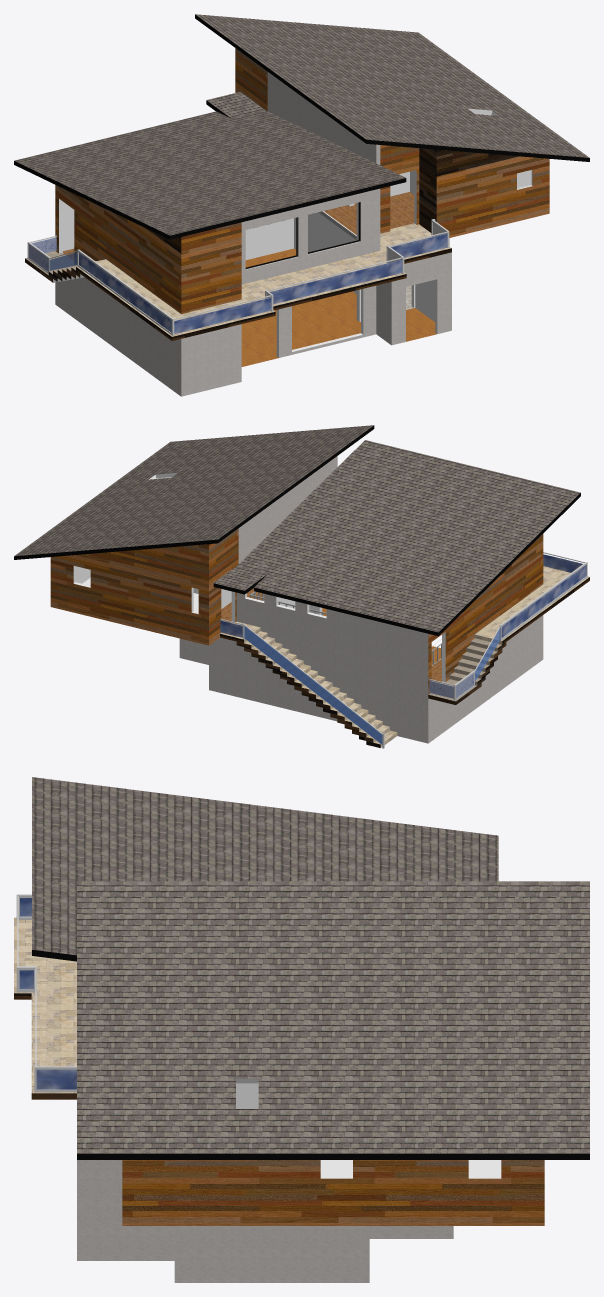
File: skihuette.obj
3 views of the same model, one above another, from view 1: azimuth 30°, elevation 25°; view 2: azimuth 150°, elevation 25°; view 3: azimuth 270°, elevation 25° (orthographic). The views are drawn at different scales.
Parts seen in each view (by area): view 1: SketchUp_243_ID1004, SketchUp_249_ID1053, SketchUp_259_ID1117, SketchUp_055_ID424, SketchUp_056_ID437, SketchUp_054_ID411, SketchUp_262_ID1141, SketchUp_049_ID363, SketchUp_018_ID141, SketchUp_017_ID128, SketchUp_241_ID990, SketchUp_248_ID1047 (+9 smaller); view 2: SketchUp_243_ID1004, SketchUp_259_ID1117, SketchUp_249_ID1053, SketchUp_056_ID437, SketchUp_055_ID424, SketchUp_049_ID363, SketchUp_054_ID411, SketchUp_172_ID497, SketchUp_236_ID949, SketchUp_241_ID990, SketchUp_248_ID1047, SketchUp_260_ID1125 (+5 smaller); view 3: SketchUp_249_ID1053, SketchUp_243_ID1004, SketchUp_056_ID437, SketchUp_259_ID1117, SketchUp_049_ID363, SketchUp_248_ID1047, SketchUp_018_ID141, SketchUp_188_ID617.
Boxes of the visible parts, bbox=[...] form: SketchUp_243_ID1004: bbox=[14, 92, 405, 235]; SketchUp_249_ID1053: bbox=[195, 14, 589, 157]; SketchUp_259_ID1117: bbox=[55, 238, 451, 396]; SketchUp_055_ID424: bbox=[55, 185, 241, 313]; SketchUp_056_ID437: bbox=[235, 48, 549, 237]; SketchUp_054_ID411: bbox=[241, 72, 380, 284]; SketchUp_262_ID1141: bbox=[241, 248, 436, 366]; SketchUp_049_ID363: bbox=[25, 223, 451, 336]; SketchUp_018_ID141: bbox=[59, 113, 492, 357]; SketchUp_017_ID128: bbox=[25, 248, 451, 340]; SketchUp_241_ID990: bbox=[14, 100, 406, 239]; SketchUp_248_ID1047: bbox=[195, 14, 589, 161]; SketchUp_243_ID1004: bbox=[214, 440, 580, 632]; SketchUp_259_ID1117: bbox=[179, 592, 543, 743]; SketchUp_249_ID1053: bbox=[14, 425, 373, 556]; SketchUp_056_ID437: bbox=[50, 528, 238, 645]; SketchUp_055_ID424: bbox=[428, 534, 543, 694]; SketchUp_049_ID363: bbox=[428, 566, 589, 701]; SketchUp_054_ID411: bbox=[238, 456, 337, 563]; SketchUp_172_ID497: bbox=[220, 621, 397, 747]; SketchUp_236_ID949: bbox=[244, 626, 382, 744]; SketchUp_241_ID990: bbox=[213, 493, 580, 636]; SketchUp_248_ID1047: bbox=[14, 425, 374, 559]; SketchUp_260_ID1125: bbox=[220, 634, 380, 747]; SketchUp_249_ID1053: bbox=[77, 881, 589, 1153]; SketchUp_243_ID1004: bbox=[32, 777, 498, 955]; SketchUp_056_ID437: bbox=[122, 1160, 544, 1225]; SketchUp_259_ID1117: bbox=[77, 1160, 453, 1282]; SketchUp_049_ID363: bbox=[14, 917, 76, 1093]; SketchUp_248_ID1047: bbox=[77, 1153, 589, 1159]; SketchUp_018_ID141: bbox=[236, 1083, 501, 1178]; SketchUp_188_ID617: bbox=[36, 1069, 76, 1089].
Bounding box in the file's own units: 16.7 × 7.7 × 12.68.
